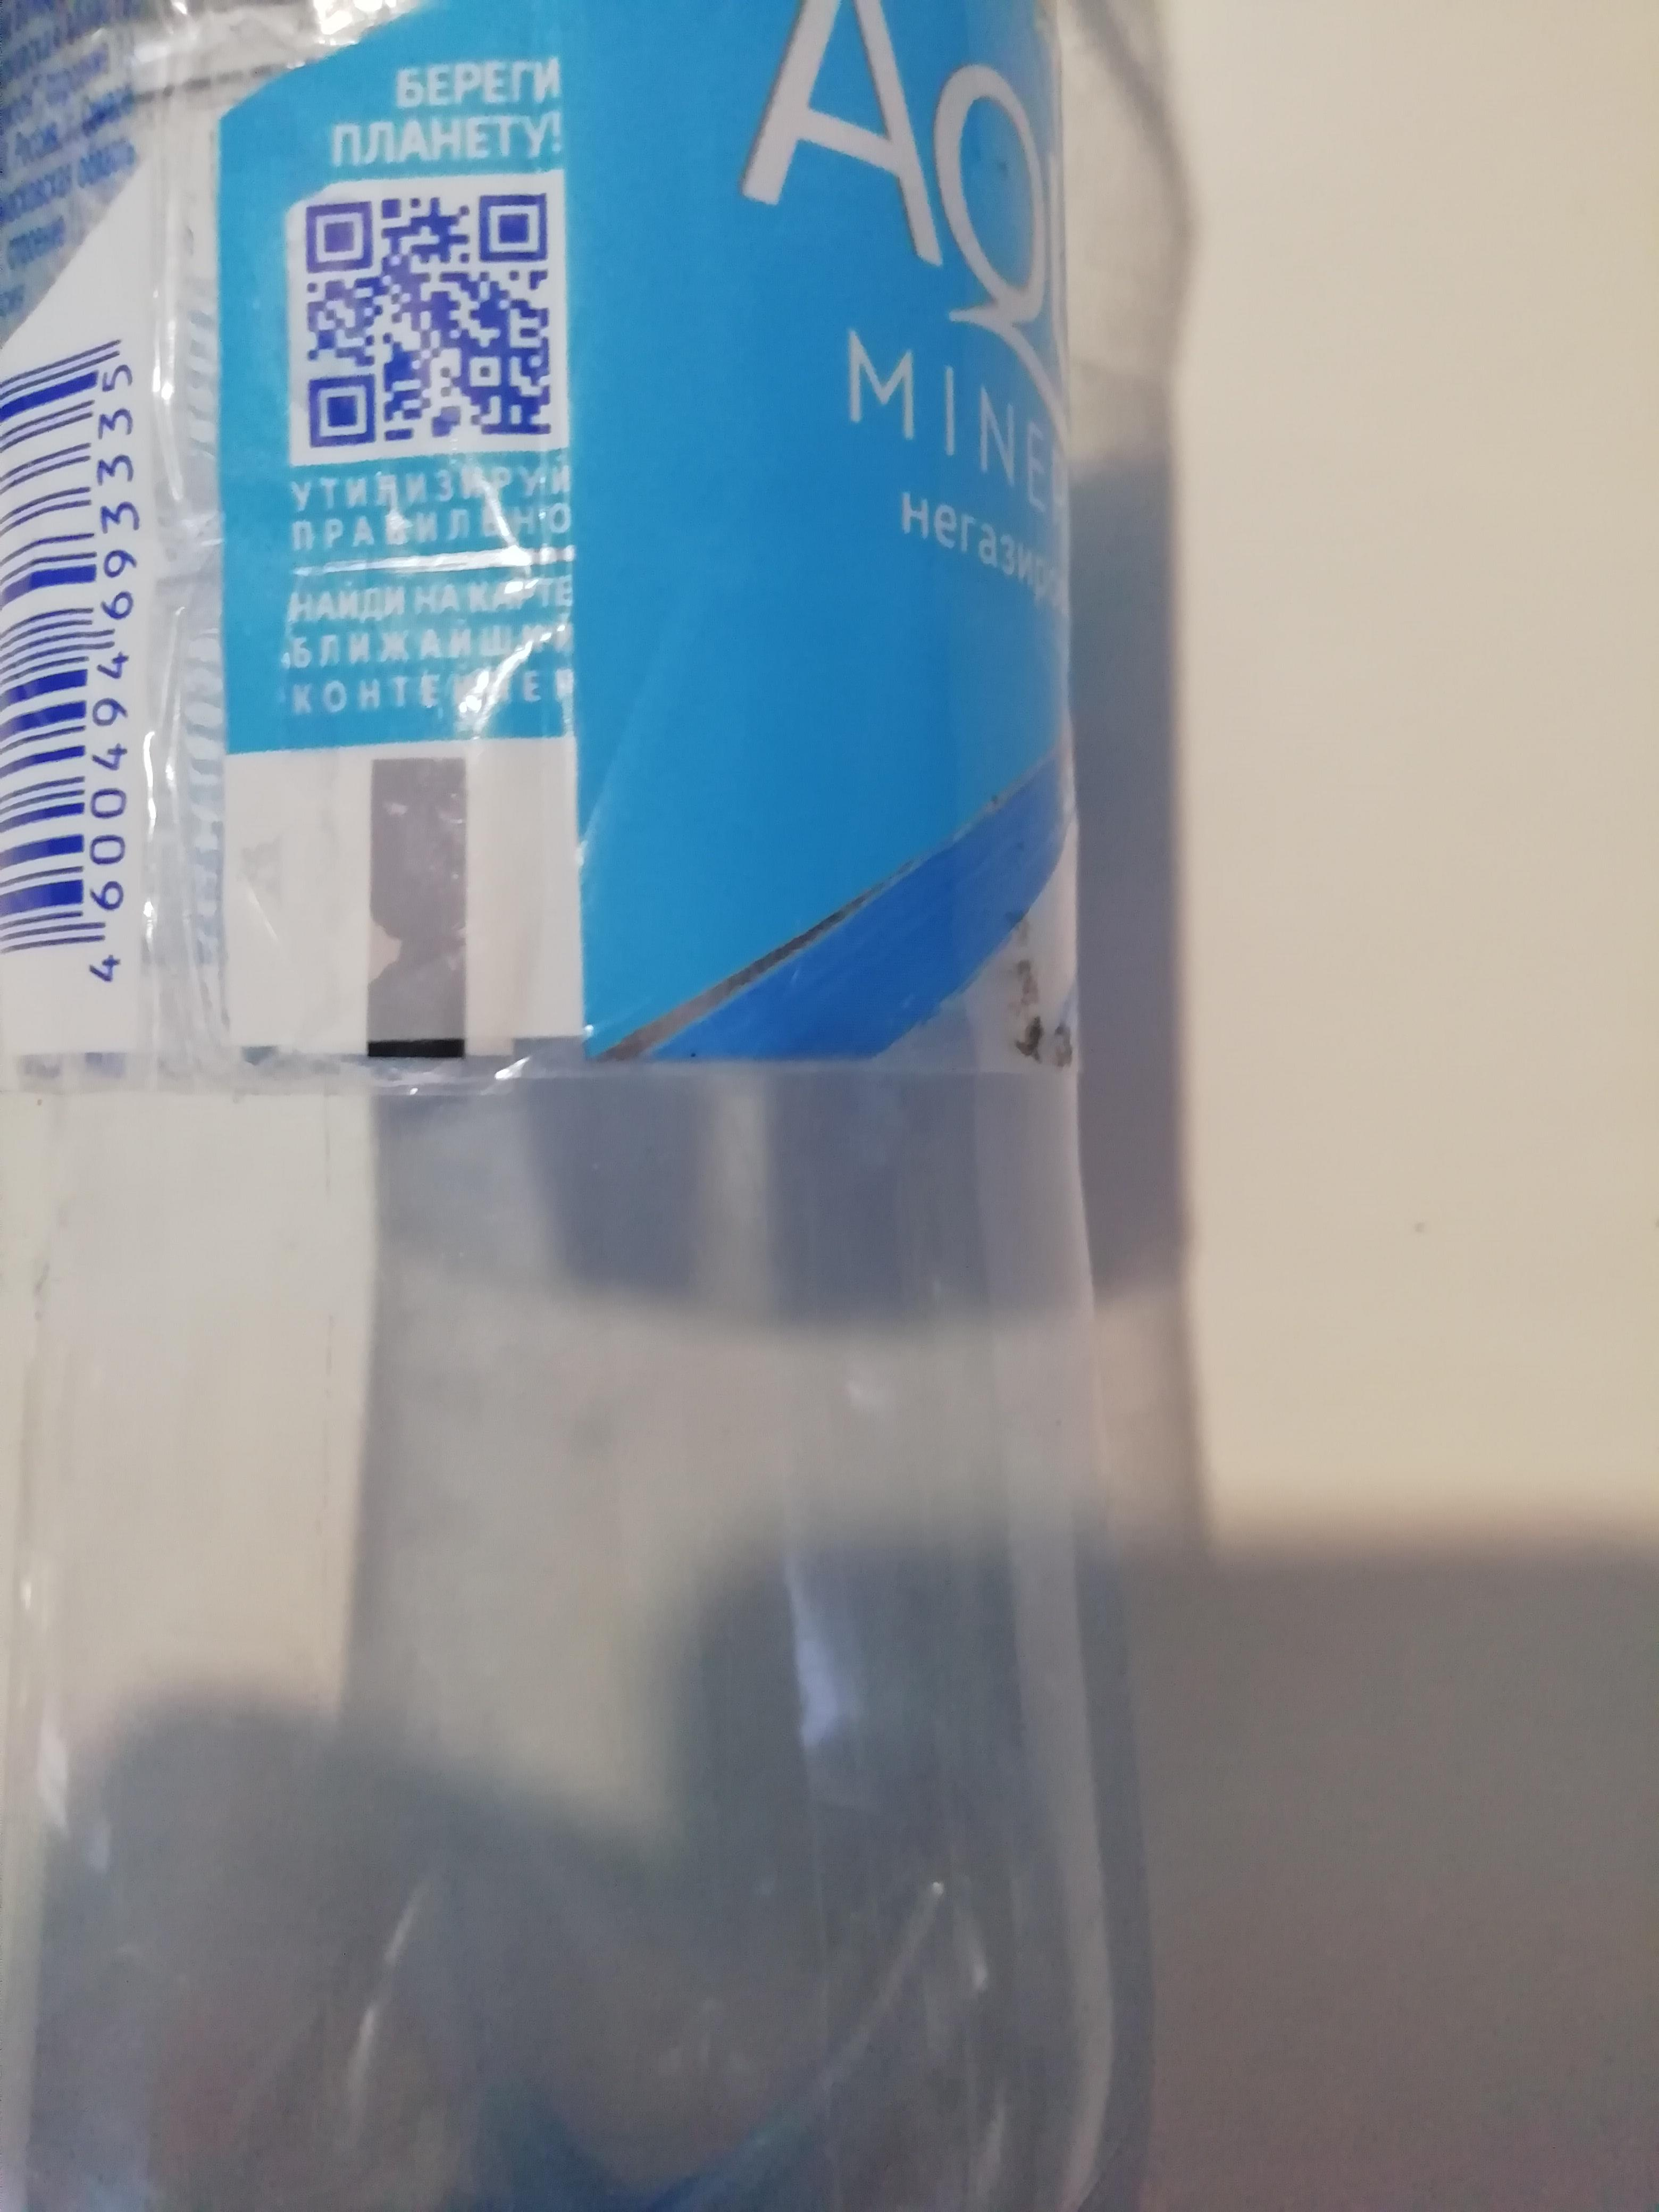qrcode: (307, 192, 551, 449)
